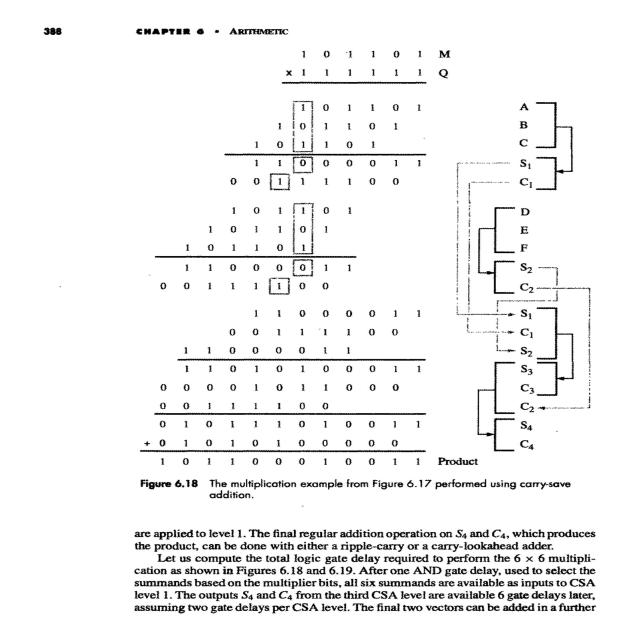diagram: (104, 48, 624, 504)
